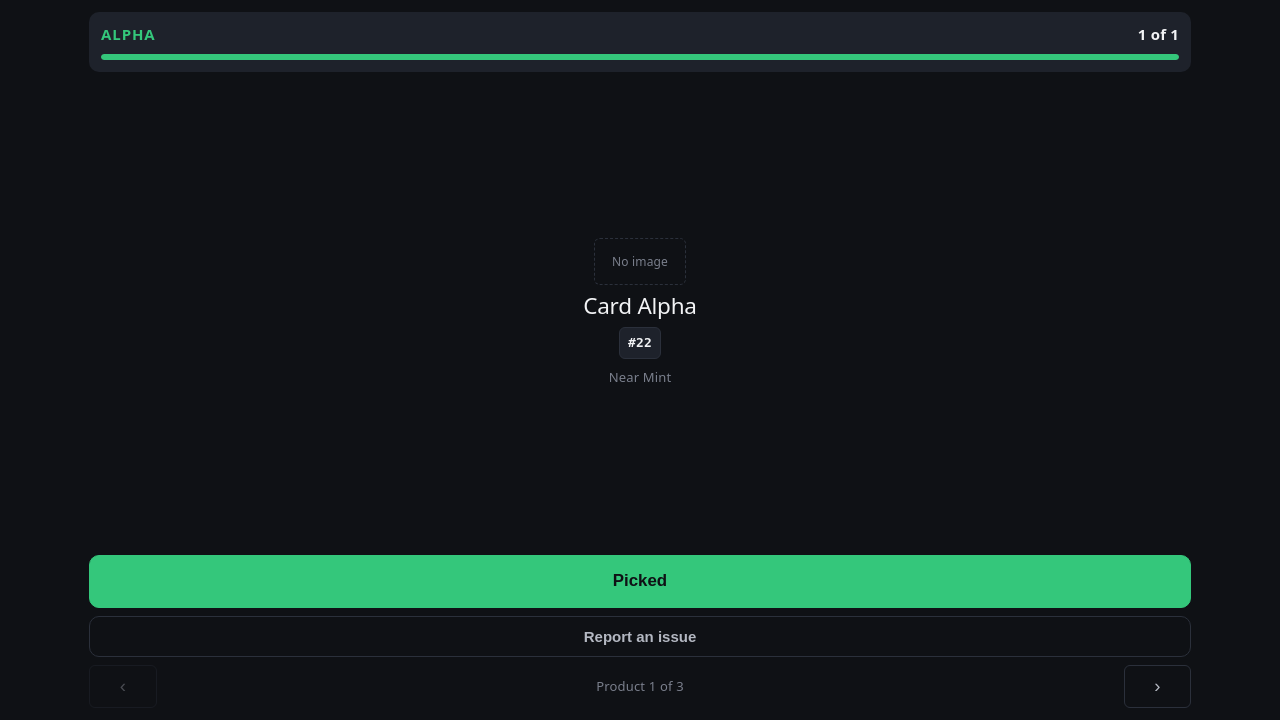
Test case: FocusedPickView — moving is never blocked › walks single-card boxes end to end with nothing resolved
The width and height of the screenshot is (1280, 720).
Click the button named "Next card".
click(1157, 686)  # box [1124,665,1191,708]
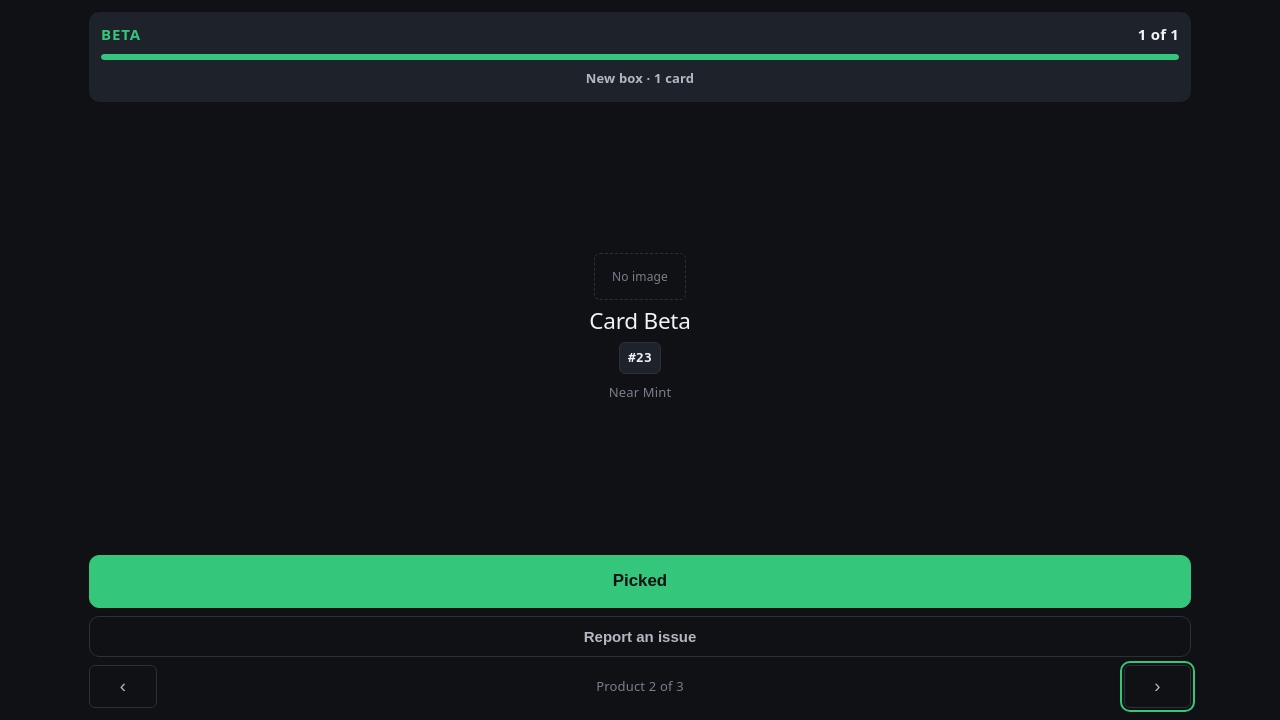
Click the button named "Next card".
click(1157, 686)  # box [1124,665,1191,708]
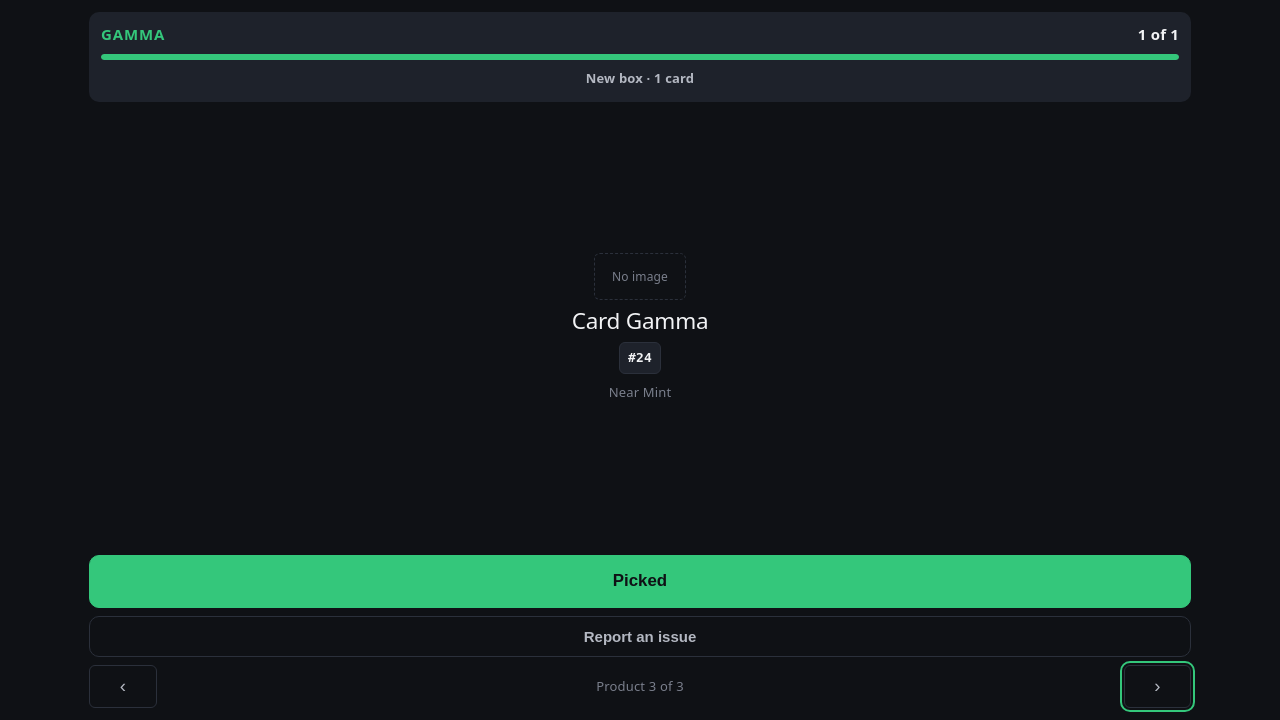
Expected: the heading "Card Gamma" is shown, [572,308,708,334]
